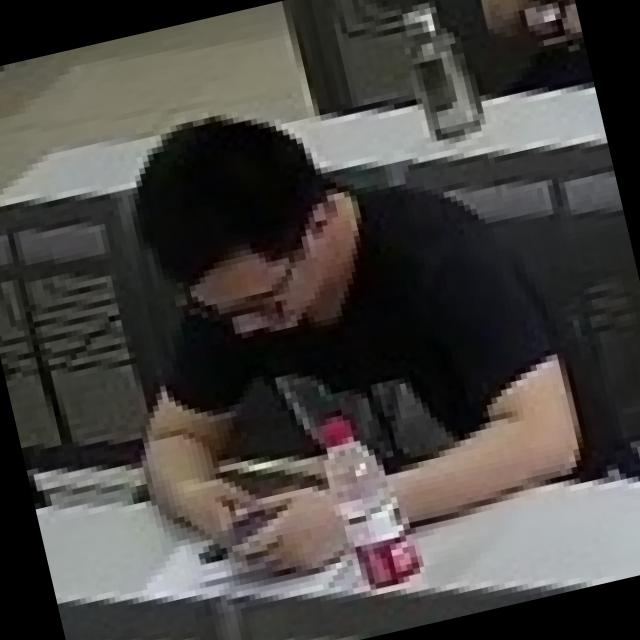phone: (70, 41, 620, 634)
